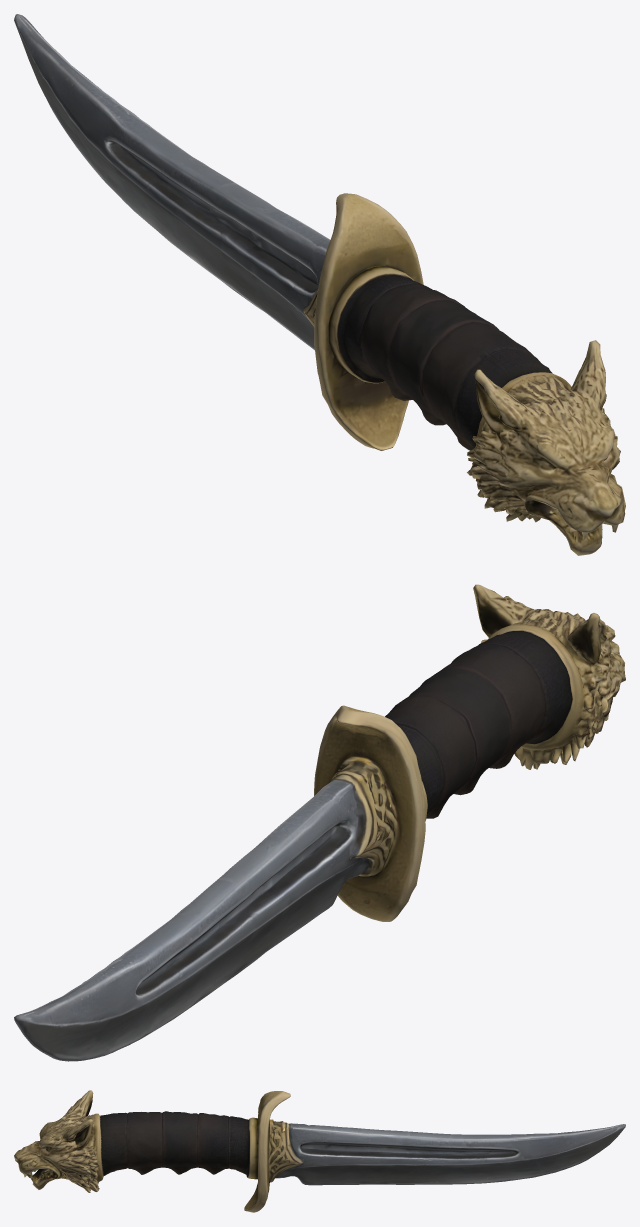
File: kama01.glb
The picture shows the model from 3 angles, top to bottom: view 1: azimuth 30°, elevation 25°; view 2: azimuth 150°, elevation 25°; view 3: azimuth 270°, elevation 25°; orthographic projection. The views are drawn at different scales.
Parts seen in each view (by area): view 1: tripo_node_d3f2907c-aca9-415d-91dd-543c550c1f66; view 2: tripo_node_d3f2907c-aca9-415d-91dd-543c550c1f66; view 3: tripo_node_d3f2907c-aca9-415d-91dd-543c550c1f66.
Part boxes in pixels (x1=…): tripo_node_d3f2907c-aca9-415d-91dd-543c550c1f66: x1=14, y1=14, x2=625, y2=555; tripo_node_d3f2907c-aca9-415d-91dd-543c550c1f66: x1=14, y1=584, x2=625, y2=1061; tripo_node_d3f2907c-aca9-415d-91dd-543c550c1f66: x1=14, y1=1090, x2=625, y2=1212.
Bounding box in the file's own units: 0.1327 × 0.215 × 1.
Materials: 1 (1 with a texture image).
